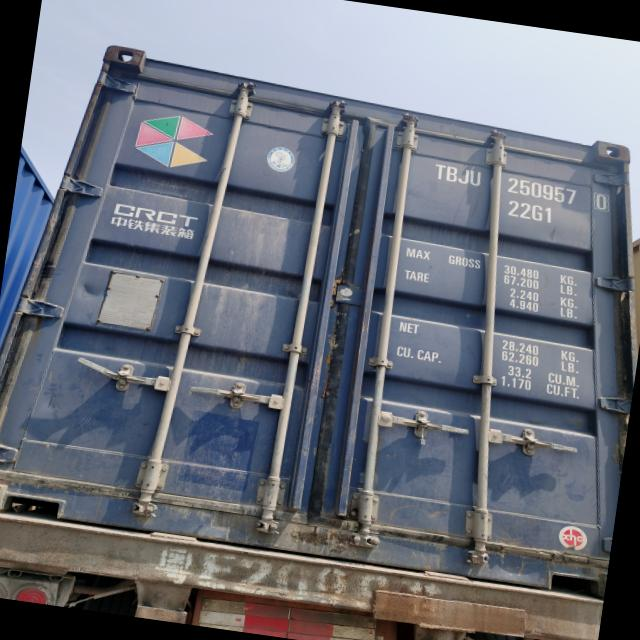seal: (414, 419, 433, 447)
